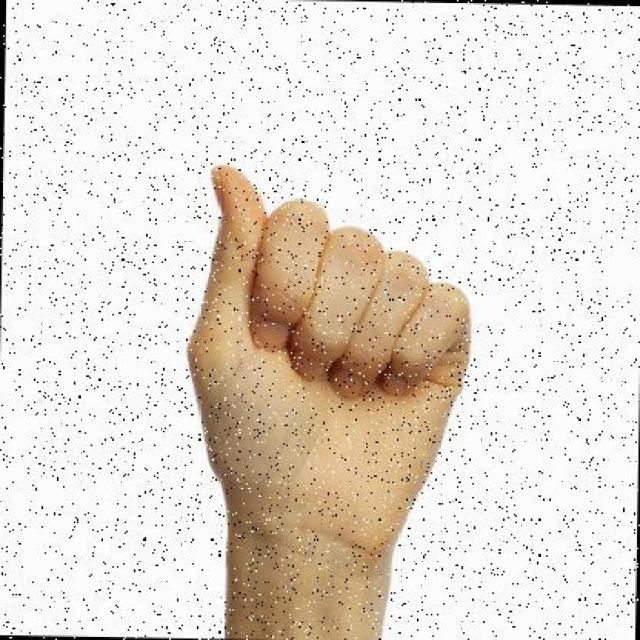A: (175, 160, 482, 569)
